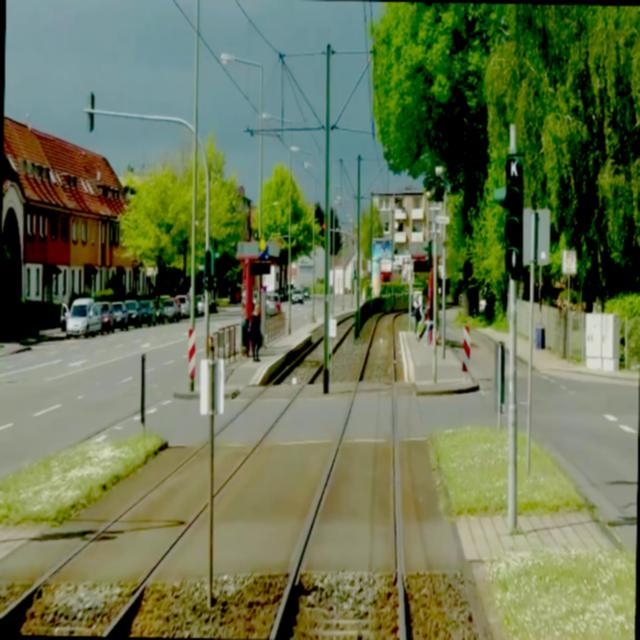rail: (232, 312, 444, 640)
